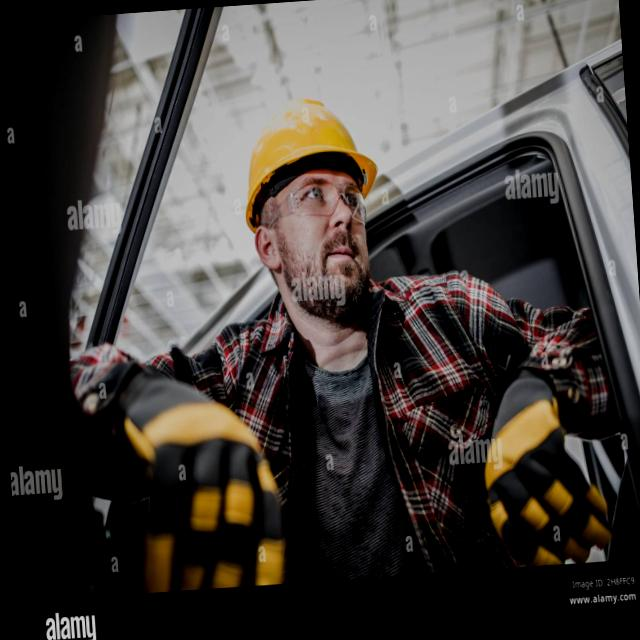goggles: (262, 172, 370, 242)
helmet: (234, 90, 380, 237)
no-vest: (248, 286, 486, 588)
